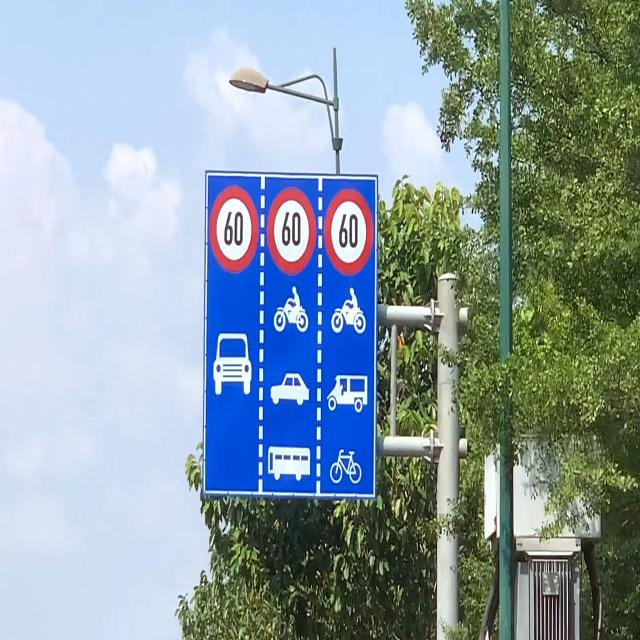P.127: (209, 185, 259, 273), (267, 186, 316, 275), (324, 189, 373, 275)
